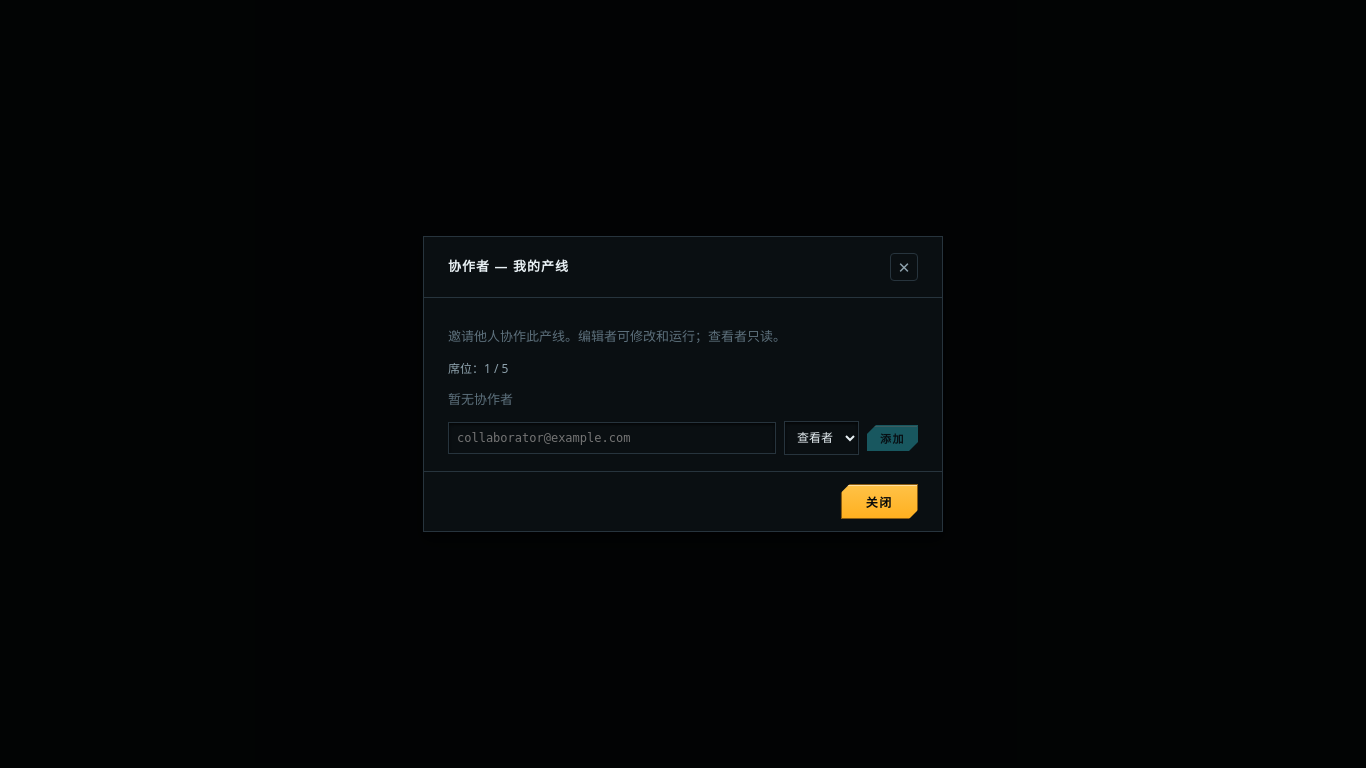
Test: CollaboratorsModal › keeps add disabled until an email is entered
Expected: the button "添加" is disabled, top-left (867, 425), bottom-right (918, 451)
Step 1. Type "new@example.com" into the field with placeholder "collaborator@example.com" → coordinates (612, 438), box top-left (448, 422), bottom-right (776, 454)
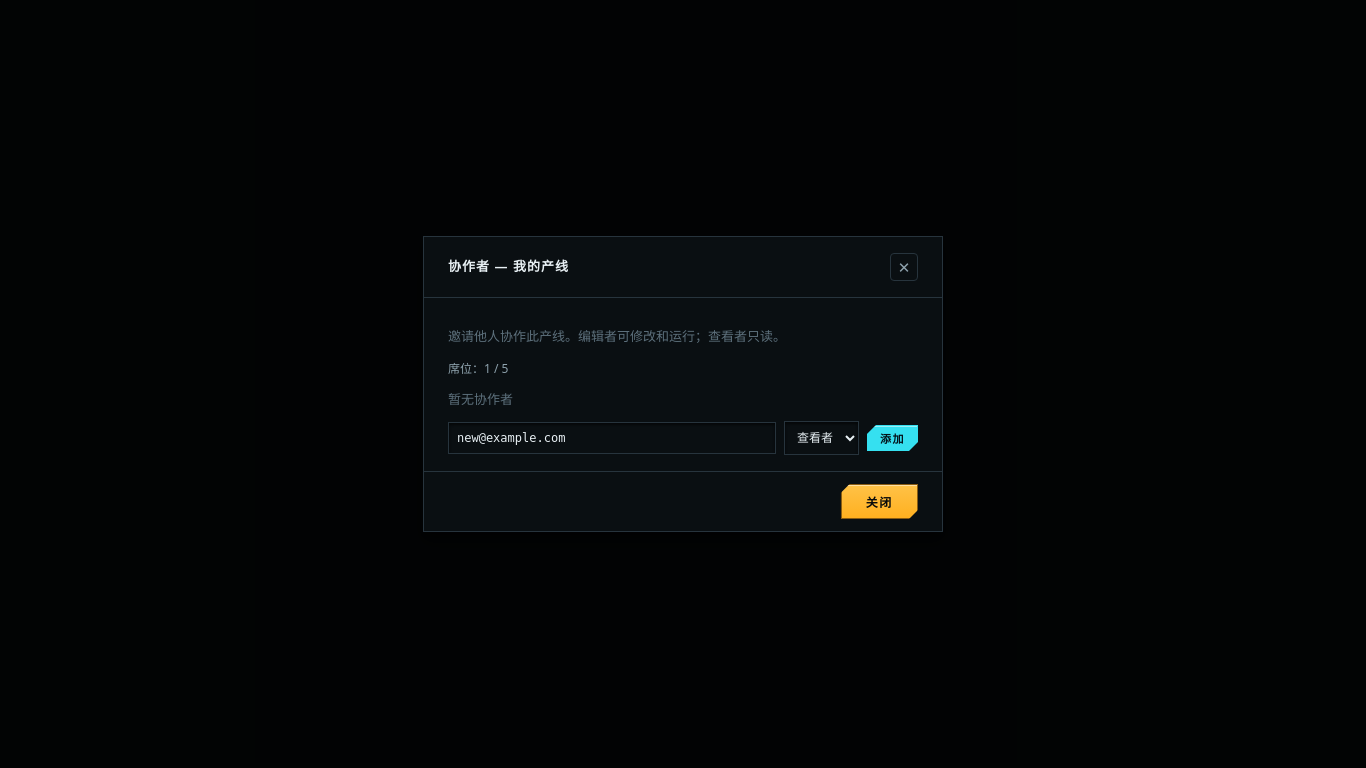
Expected: the button "添加" is enabled, top-left (867, 425), bottom-right (918, 451)
